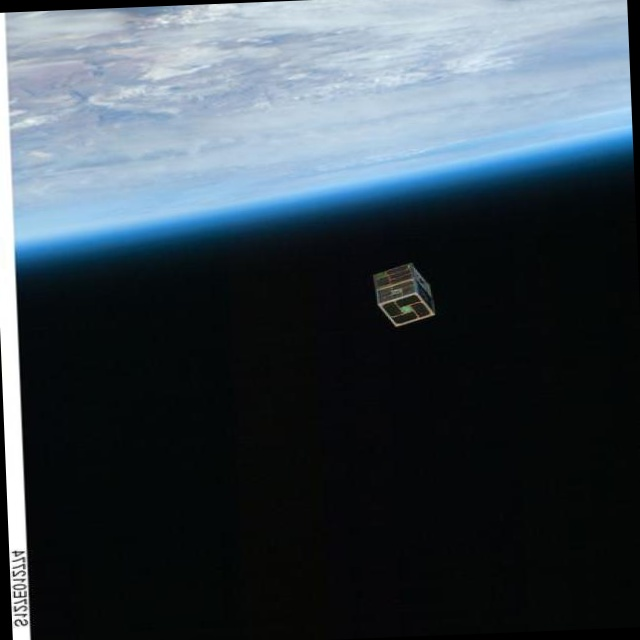satellite: (366, 256, 445, 329)
